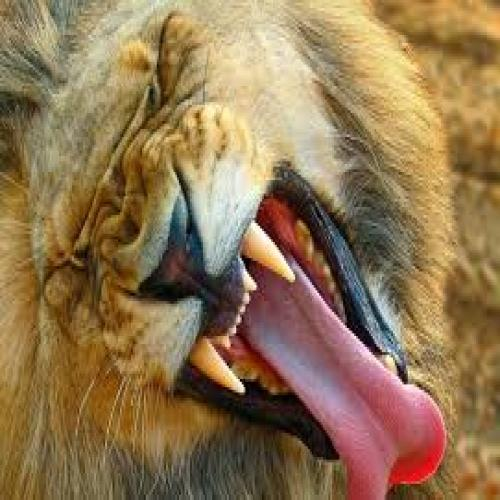lion-endangered: (8, 16, 450, 492)
